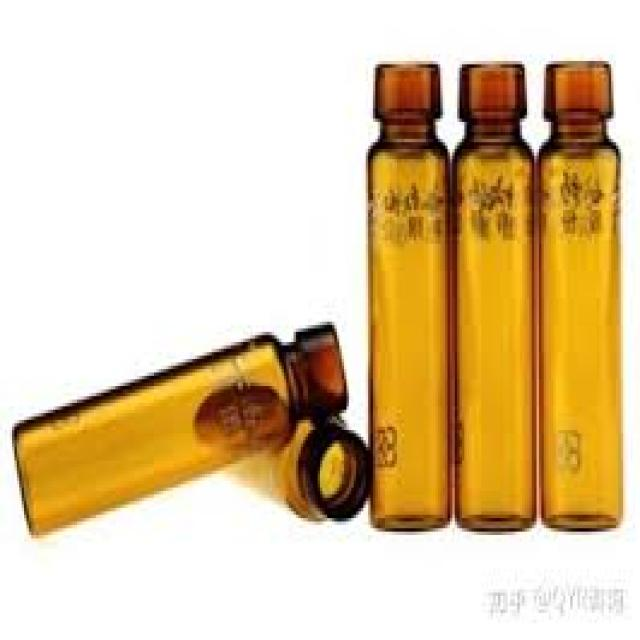inorganic: (14, 322, 360, 537), (366, 68, 452, 535), (537, 71, 620, 529), (453, 72, 535, 530)
